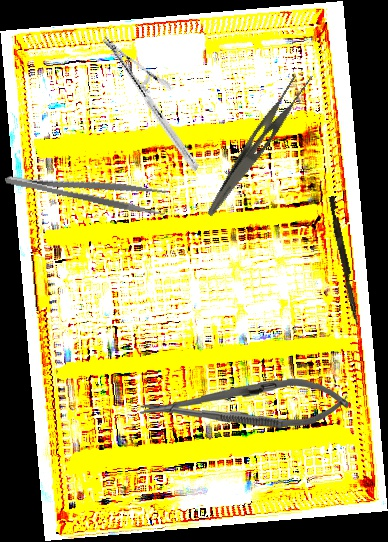Dressing Forceps: (205, 63, 316, 227), (3, 158, 170, 219)
Needle Holder: (68, 35, 233, 172), (138, 375, 351, 434)
Pusher: (325, 195, 364, 326)
